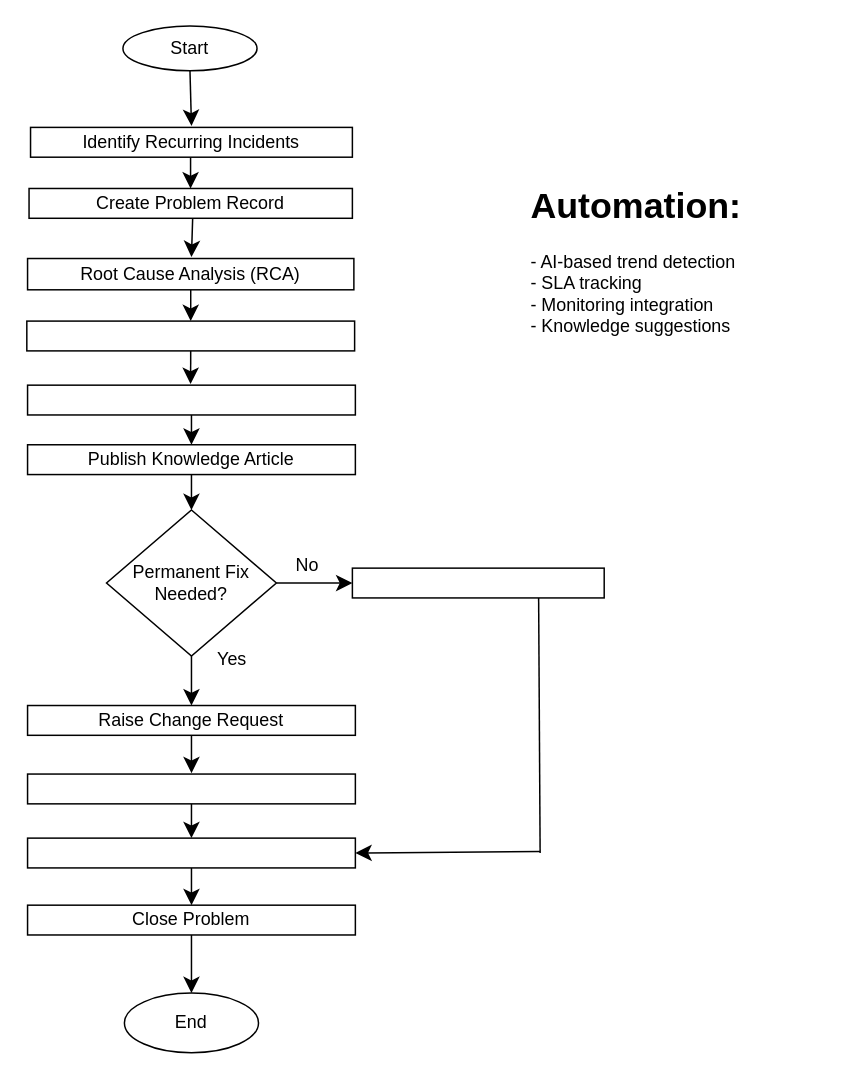
The diagram is 861 pixels wide and 1079 high, and some of its shapes have lost their labels. Each missing label, with the box of its shape:
Create Workaround: (26, 384, 355, 415)
Identify Known Error: (25, 320, 355, 351)
Implement Fix (via Change): (26, 773, 355, 804)
Monitor / Accept Workaround: (351, 567, 604, 598)
Review Effectiveness: (26, 837, 355, 868)
